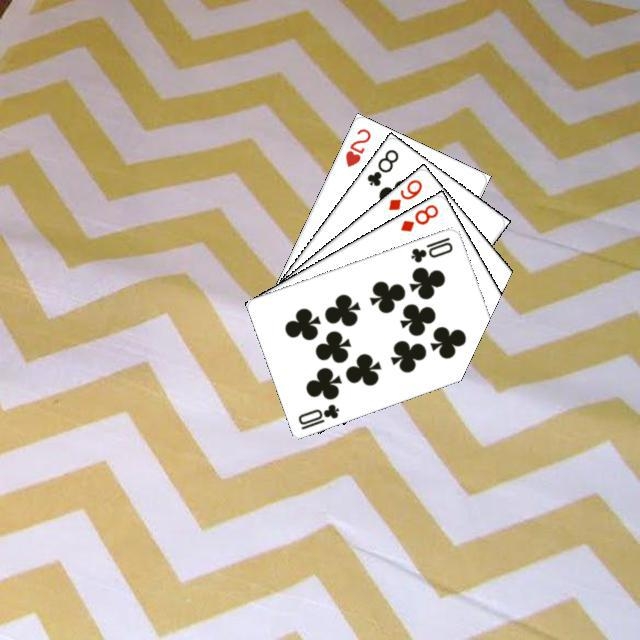10c: (406, 232, 454, 264), (293, 399, 341, 431)
2h: (340, 123, 373, 168)
8c: (362, 144, 400, 188)
8d: (395, 199, 440, 234)
9d: (383, 174, 424, 212)
